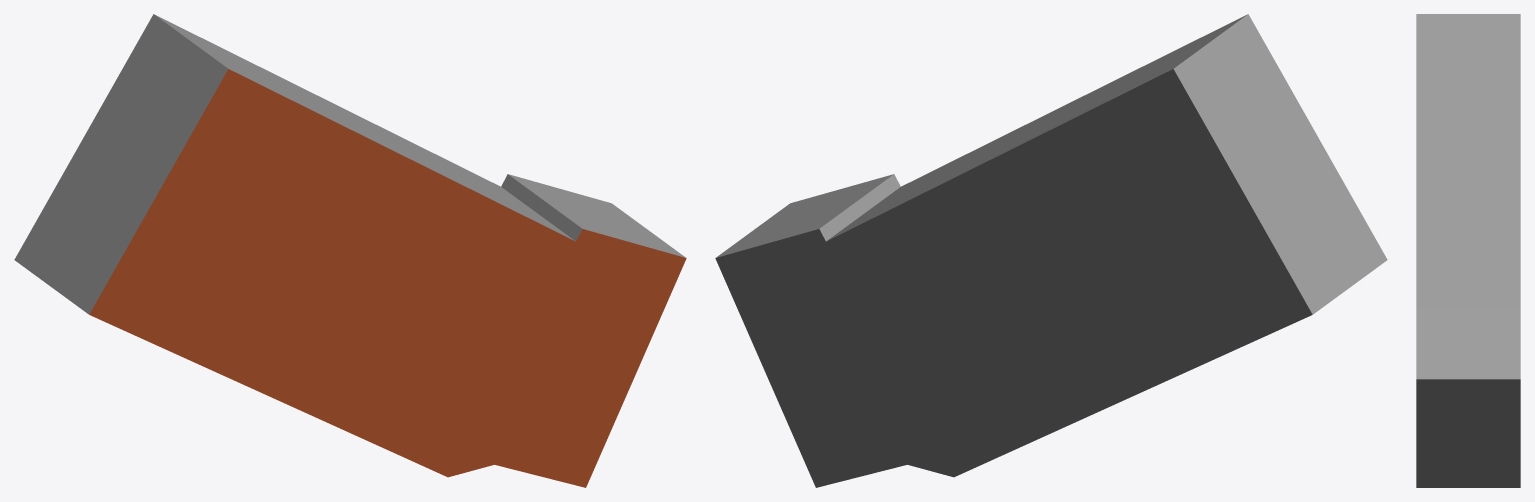
The model's file is construction_6836_assumed_A_Casa_h6m.obj.
3 views of the same model, side by side, from view 1: azimuth 30°, elevation 25°; view 2: azimuth 150°, elevation 25°; view 3: azimuth 270°, elevation 25° (orthographic). The views are drawn at different scales.
Parts seen in each view (by area): view 1: construction_6836_assumed_A_Casa; view 2: construction_6836_assumed_A_Casa; view 3: construction_6836_assumed_A_Casa.
Part boxes in pixels (bbox=[...]): construction_6836_assumed_A_Casa: bbox=[14, 14, 686, 487]; construction_6836_assumed_A_Casa: bbox=[715, 14, 1387, 487]; construction_6836_assumed_A_Casa: bbox=[1416, 14, 1520, 487].
Bounding box in the file's own units: 27.62 × 22.37 × 6.
